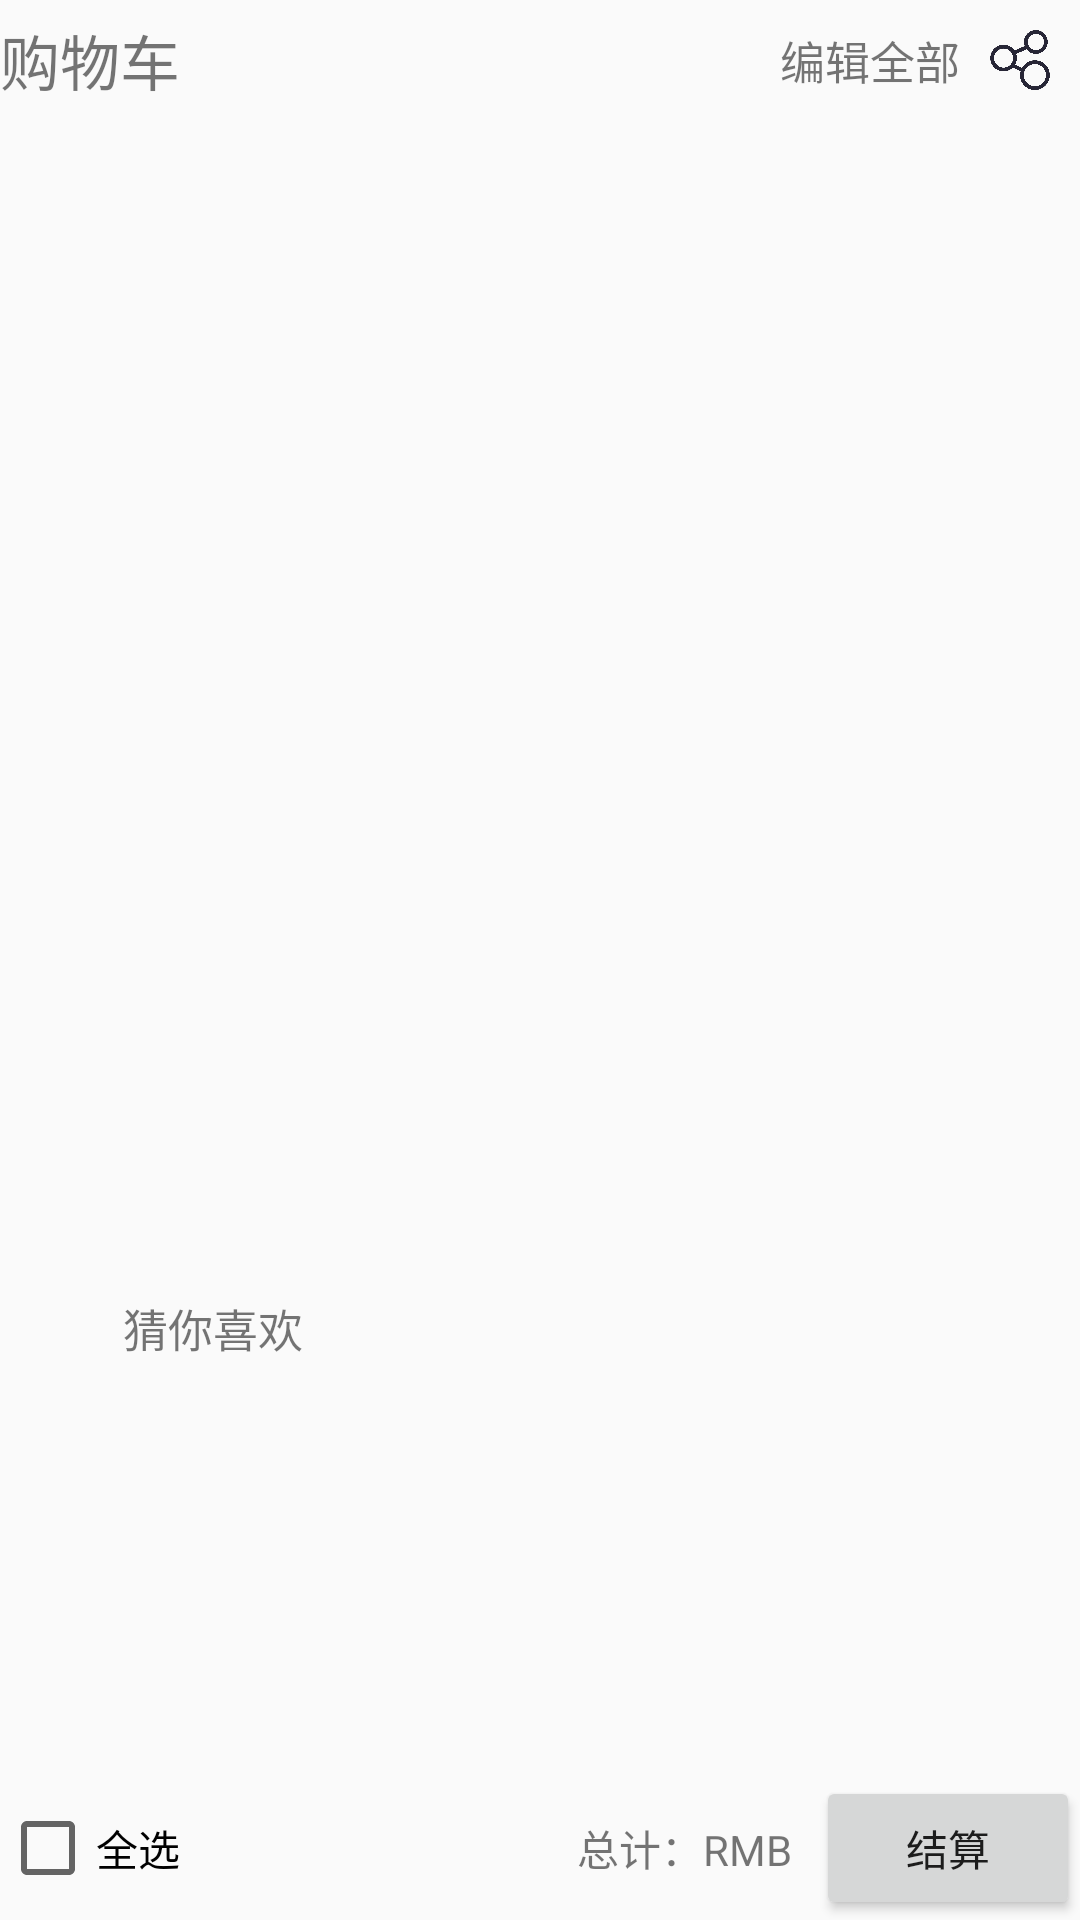

Point at icon controls on the screen. Image size 1080 × 1920, points as point (x, y).
fen xiang: point (1020, 60)
